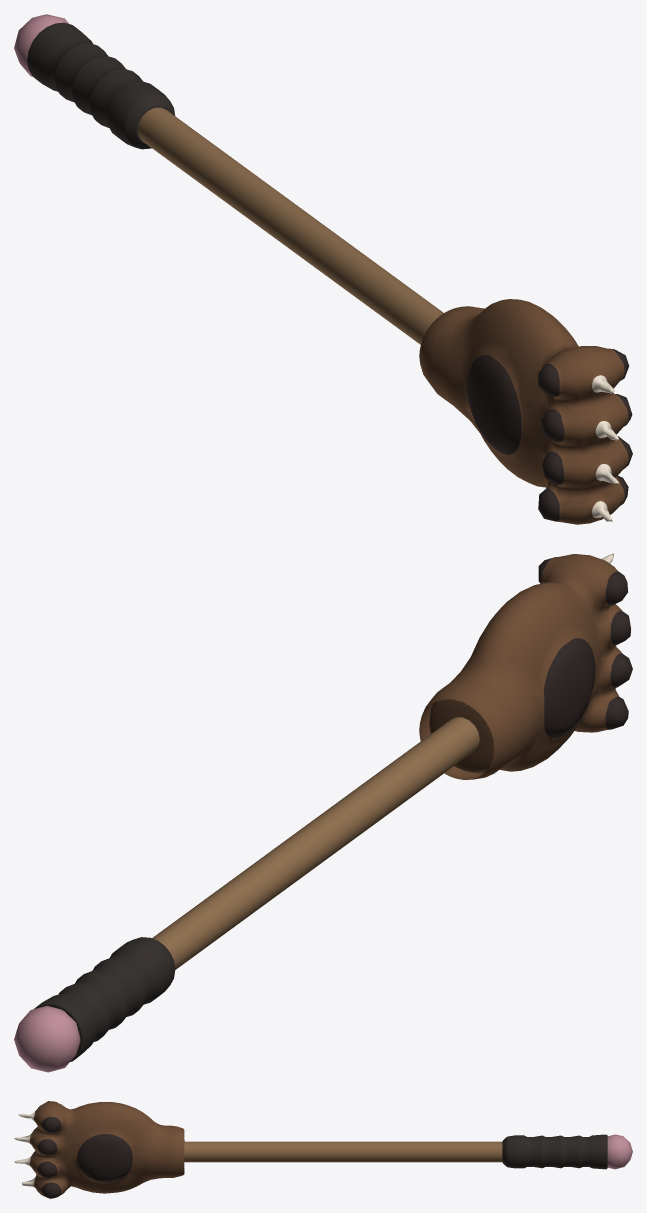
The model's file is w_slapper@slapper_paw.glb.
3 renders of one model, top to bottom at view 1: azimuth 30°, elevation 25°; view 2: azimuth 150°, elevation 25°; view 3: azimuth 270°, elevation 25°, orthographic. The views are drawn at different scales.
Visible parts, largest first — view 1: hand_wzB__fur__p6b4a32, stick_wzA__stick__p8a6a4a, grip_wzA__grip__p2f2a27, hand_wzB__pad__p2e2523, hand_wzB__claw__pe8dccb, cap_wzN__hand__pb98895; view 2: hand_wzB__fur__p6b4a32, stick_wzA__stick__p8a6a4a, grip_wzA__grip__p2f2a27, hand_wzB__pad__p2e2523, cap_wzN__hand__pb98895, hand_wzN__cuff__p5a3e2a; view 3: hand_wzB__fur__p6b4a32, stick_wzA__stick__p8a6a4a, grip_wzA__grip__p2f2a27, hand_wzB__pad__p2e2523, cap_wzN__hand__pb98895, hand_wzB__claw__pe8dccb.
Part boxes in pixels (box(x1,y1,x2,y2)): hand_wzB__fur__p6b4a32: box(419, 299, 628, 524); stick_wzA__stick__p8a6a4a: box(137, 107, 443, 344); grip_wzA__grip__p2f2a27: box(27, 22, 175, 149); hand_wzB__pad__p2e2523: box(466, 349, 632, 521); hand_wzB__claw__pe8dccb: box(592, 375, 619, 521); cap_wzN__hand__pb98895: box(14, 14, 68, 76); hand_wzB__fur__p6b4a32: box(419, 554, 622, 779); stick_wzA__stick__p8a6a4a: box(152, 717, 479, 969); grip_wzA__grip__p2f2a27: box(34, 937, 175, 1061); hand_wzB__pad__p2e2523: box(538, 558, 632, 737); cap_wzN__hand__pb98895: box(14, 1005, 80, 1072); hand_wzN__cuff__p5a3e2a: box(429, 699, 494, 773); hand_wzB__fur__p6b4a32: box(30, 1101, 184, 1196); stick_wzA__stick__p8a6a4a: box(184, 1141, 502, 1162); grip_wzA__grip__p2f2a27: box(502, 1134, 607, 1169); hand_wzB__pad__p2e2523: box(37, 1101, 132, 1198); cap_wzN__hand__pb98895: box(607, 1134, 632, 1169); hand_wzB__claw__pe8dccb: box(14, 1112, 34, 1187).
Bounding box in the file's own units: 0.0739 × 0.1308 × 0.8016.
